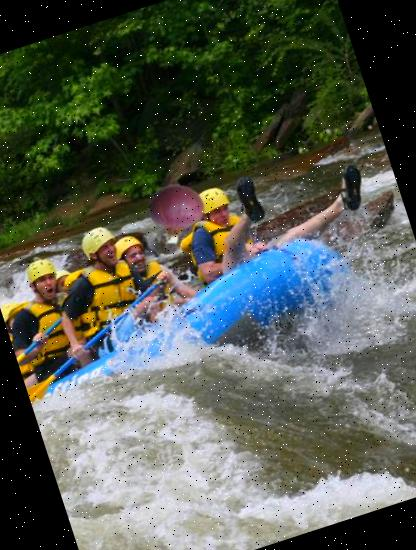Onion: (134, 168, 218, 252)
